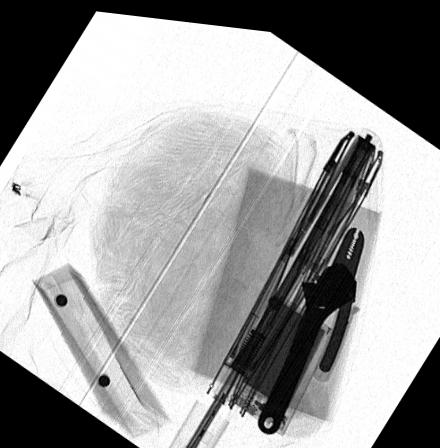Pliers: (287, 214, 363, 366)
Powerbank: (224, 284, 336, 429)
Wrench: (257, 253, 356, 427)
